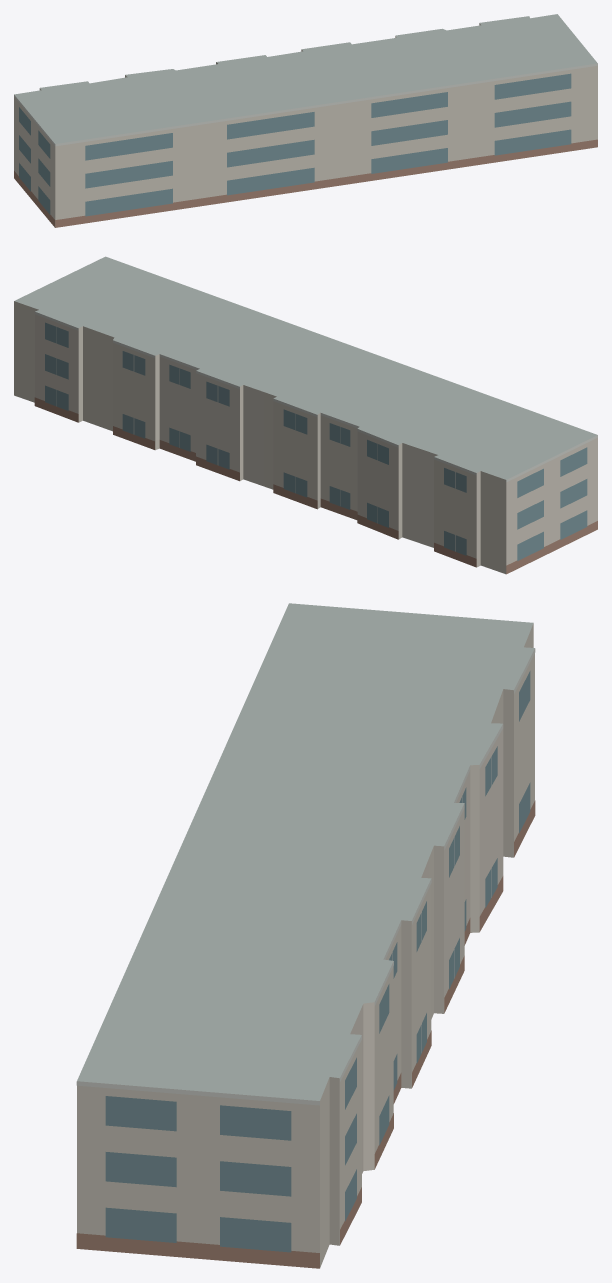
The model's file is survey-upis-33029601.glb.
The picture shows the model from 3 angles, top to bottom: view 1: azimuth 30°, elevation 25°; view 2: azimuth 150°, elevation 25°; view 3: azimuth 270°, elevation 25°; orthographic projection. The views are drawn at different scales.
Parts seen in each view (by area): view 1: survey-upis-33029601.tmp; view 2: survey-upis-33029601.tmp; view 3: survey-upis-33029601.tmp.
Boxes of the visible parts, x1,y1,x2,y2 form: survey-upis-33029601.tmp: (14,14,597,227); survey-upis-33029601.tmp: (14,256,597,574); survey-upis-33029601.tmp: (76,603,535,1268).
Bounding box in the file's own units: 58.3 × 9.15 × 22.69.
